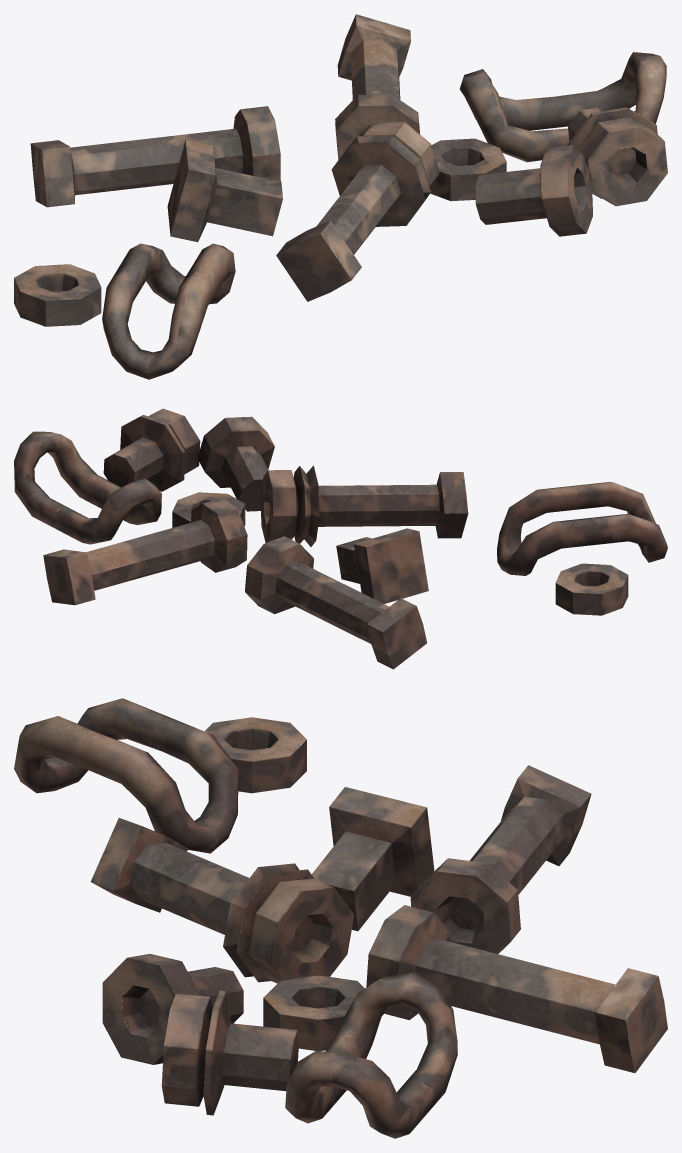
File: SM_Bolts.FBX
The picture shows the model from 3 angles, top to bottom: view 1: azimuth 30°, elevation 25°; view 2: azimuth 150°, elevation 25°; view 3: azimuth 270°, elevation 25°; orthographic projection. The views are drawn at different scales.
Visible parts, largest first — view 1: SM_Bolts; view 2: SM_Bolts; view 3: SM_Bolts.
Boxes of the visible parts, x1=… form: SM_Bolts: x1=14, y1=14, x2=667, y2=379; SM_Bolts: x1=14, y1=408, x2=667, y2=669; SM_Bolts: x1=14, y1=698, x2=667, y2=1138.
Size of the model in its own units: 25.16 by 17.11 by 3.46.
